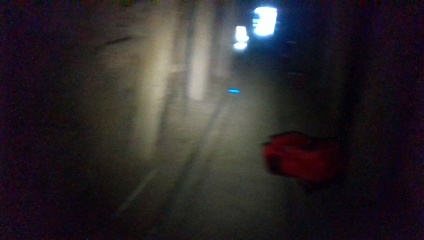backpack: (258, 127, 342, 183)
